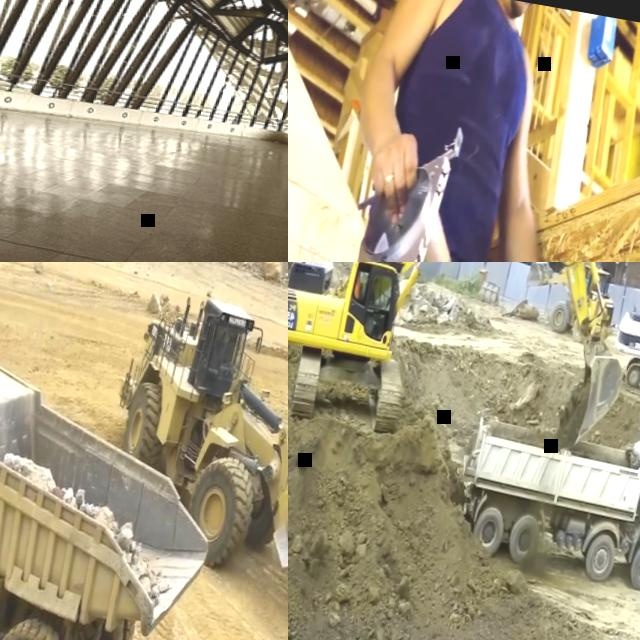NO-Mask: (503, 0, 534, 21), (374, 285, 378, 291)
NO-Safety Vest: (365, 0, 541, 262), (368, 290, 377, 306), (372, 278, 380, 286)
Person: (288, 0, 631, 262), (361, 278, 393, 338)
machinery: (288, 262, 640, 475), (0, 334, 237, 640), (88, 281, 288, 600), (445, 391, 640, 596), (517, 262, 621, 341)
